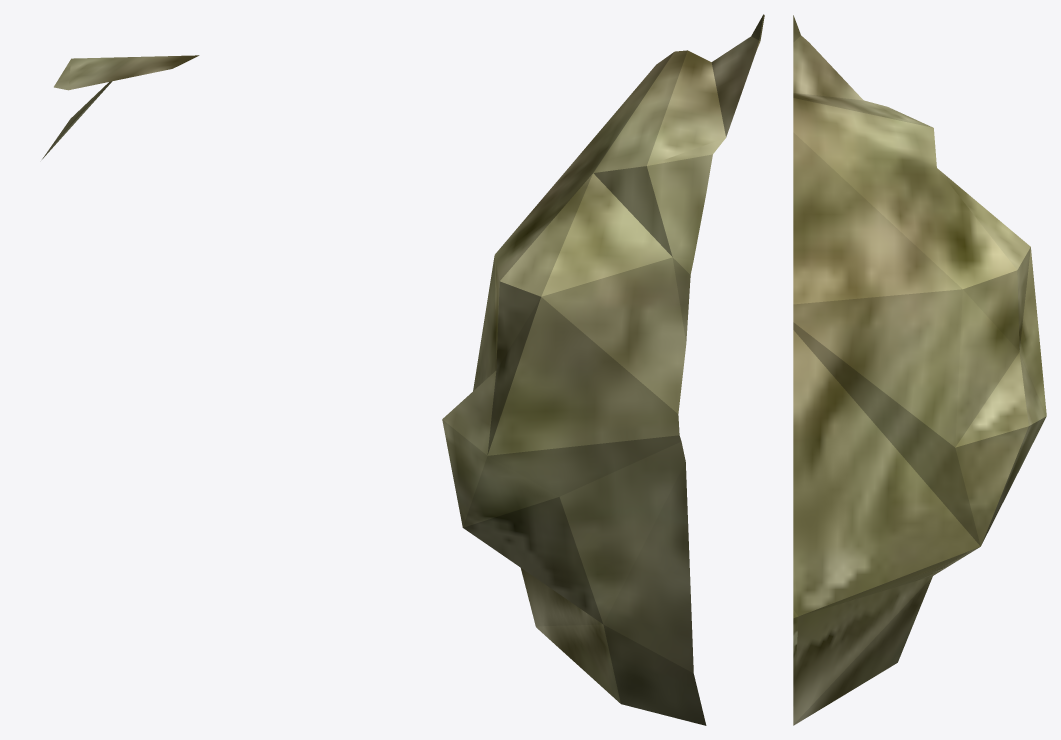
3 views of the same model, side by side, from view 1: azimuth 30°, elevation 25°; view 2: azimuth 150°, elevation 25°; view 3: azimuth 270°, elevation 25° (orthographic). The views are drawn at different scales.
Size of the model in its own units: 0.4374 by 1.05 by 0.3967.
1 material, 1 textured.
